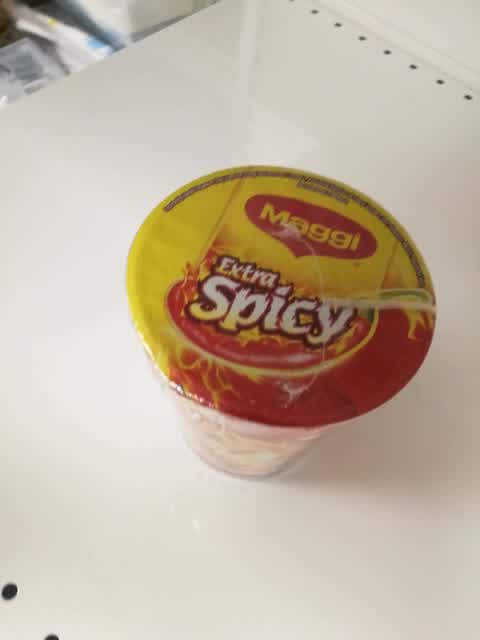maggi: (123, 164, 435, 483)
